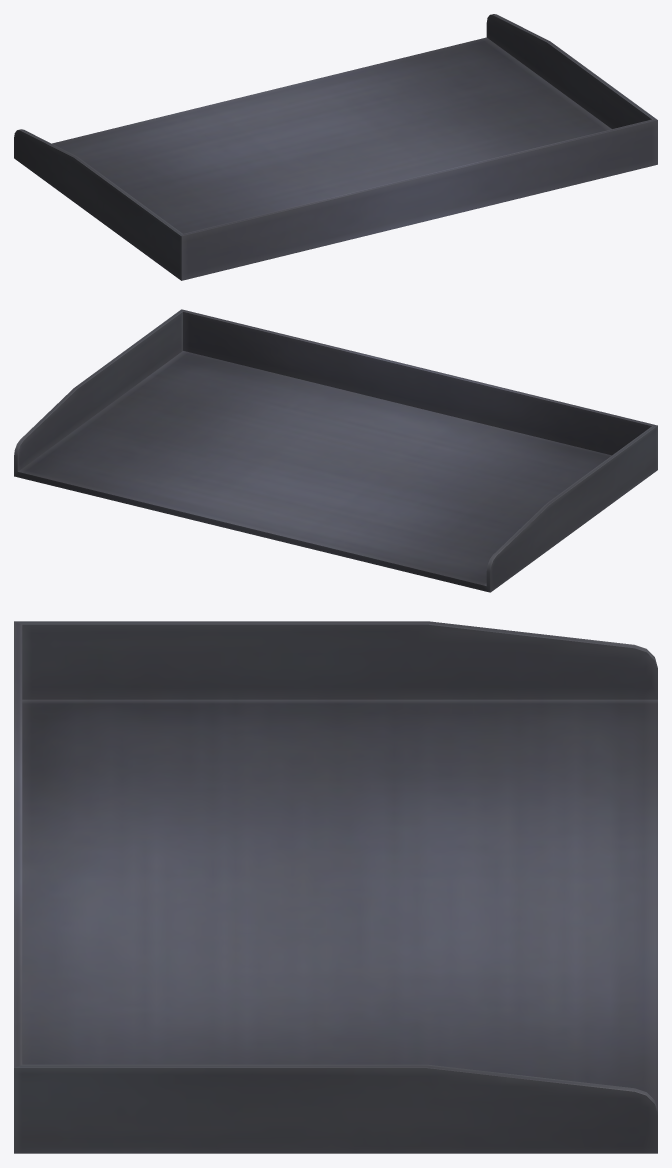
File: jsf_Plate_01.fbx
3 renders of one model, top to bottom at view 1: azimuth 30°, elevation 25°; view 2: azimuth 150°, elevation 25°; view 3: azimuth 270°, elevation 25°, orthographic. The views are drawn at different scales.
Visible parts, largest first — view 1: jsf_Plate_01; view 2: jsf_Plate_01; view 3: jsf_Plate_01.
Boxes of the visible parts, box(x1,y1,x2,y2) form: jsf_Plate_01: box(14, 14, 657, 280); jsf_Plate_01: box(14, 309, 657, 592); jsf_Plate_01: box(14, 621, 657, 1153).
Size of the model in its own units: 89.5 by 8 by 54.5.
